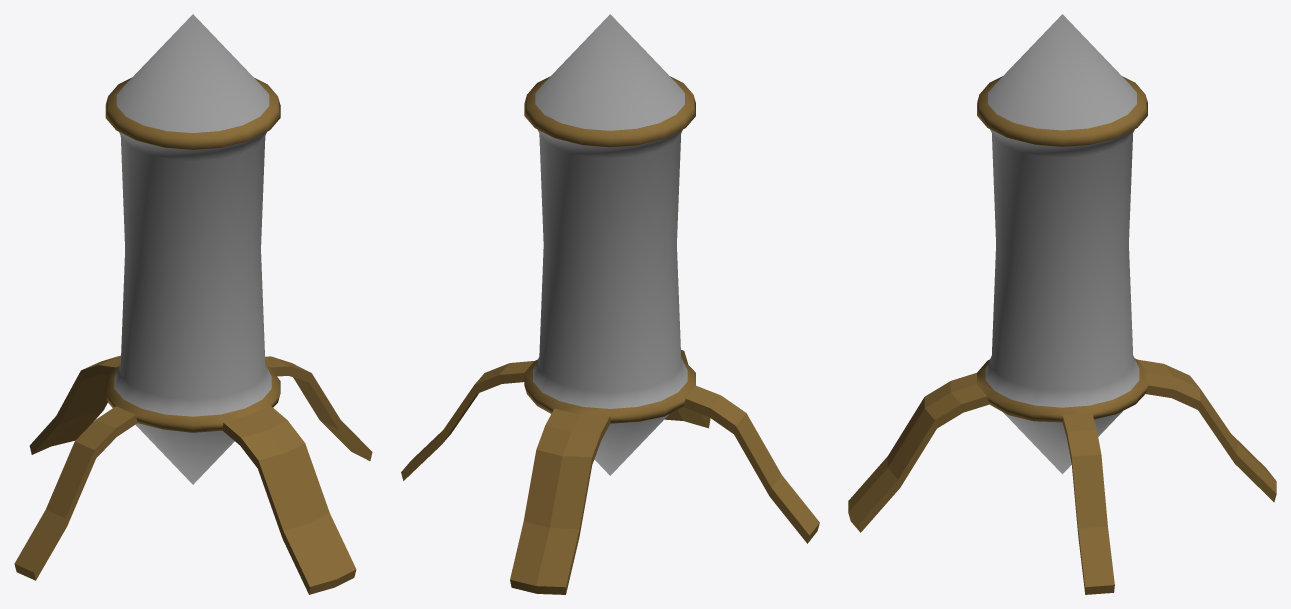
File: Cilindre_Reflectant.FBX
3 views of the same model, side by side, from view 1: azimuth 30°, elevation 25°; view 2: azimuth 150°, elevation 25°; view 3: azimuth 270°, elevation 25° (orthographic). The views are drawn at different scales.
Parts seen in each view (by area): view 1: Cilindre_low; view 2: Cilindre_low; view 3: Cilindre_low.
Part boxes in pixels (bbox=[...]): Cilindre_low: bbox=[14, 14, 372, 594]; Cilindre_low: bbox=[401, 14, 819, 594]; Cilindre_low: bbox=[848, 14, 1276, 594].
Bounding box in the file's own units: 158 × 157 × 198.
